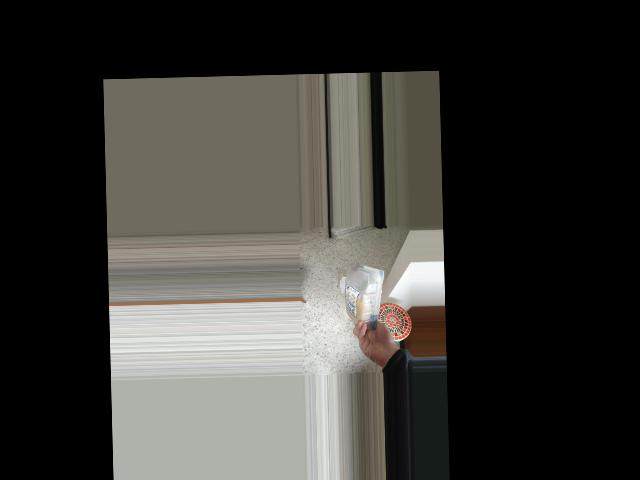cheese: (344, 262, 382, 329)
